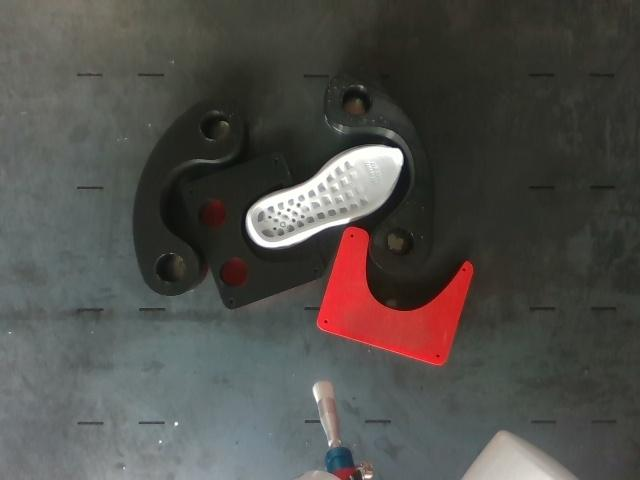shoes: (251, 147, 403, 242)
